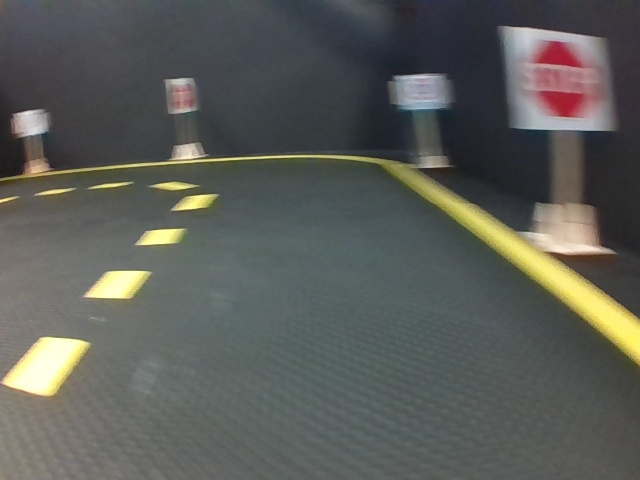30: (398, 73, 442, 108)
stop: (511, 27, 609, 130), (164, 76, 196, 111)
